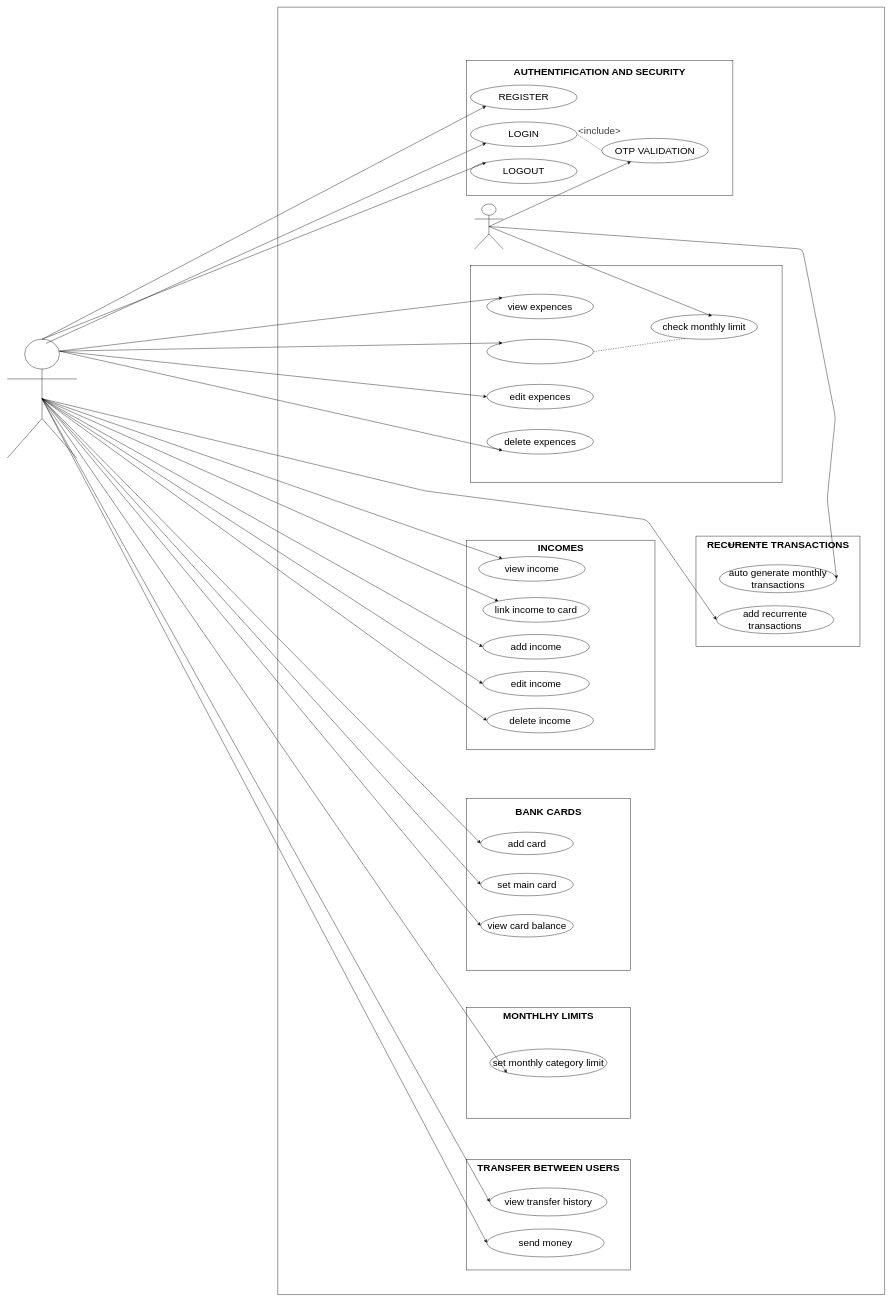
Some shapes in this 892 by 1302 pixel diagram are drawn without their labels. Each missing label, with the box of its shape:
add expences: (486, 339, 593, 364)
EXPENSECE <include>: (470, 265, 782, 483)
SYSTEM: (474, 204, 503, 249)
USER: (7, 339, 77, 458)
